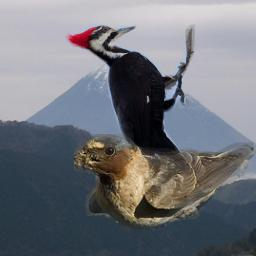Swallow: (74, 134, 256, 233)
Woodpecker: (65, 24, 195, 195)
